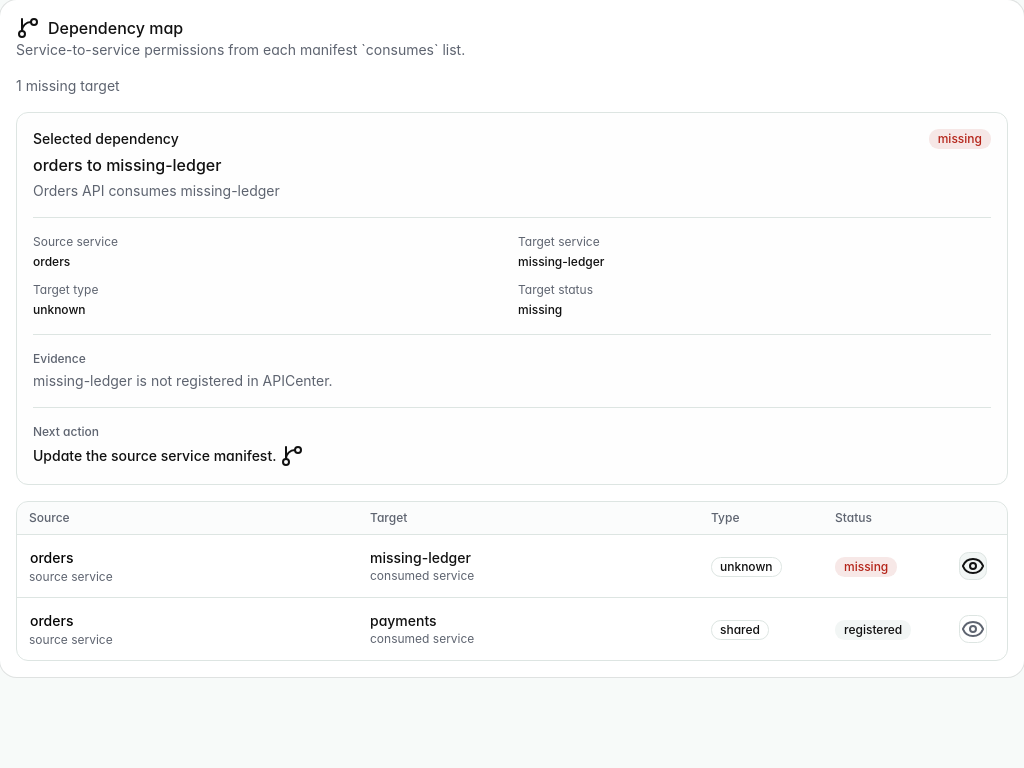
Test: DependencyMapClient › uses one severity-first dependency detail surface
This screenshot has width=1024, height=768.
Expected: the element named "Selected dependency detail" is shown, [16, 112, 1008, 485]
Expected: the text "Selected dependency" is shown, [33, 130, 179, 147]
What coordinates should you click on to do the following:
click the button named "Inspect dependency orders to payments"
I would click on:
 (973, 629)
Its box is [959, 615, 987, 643].
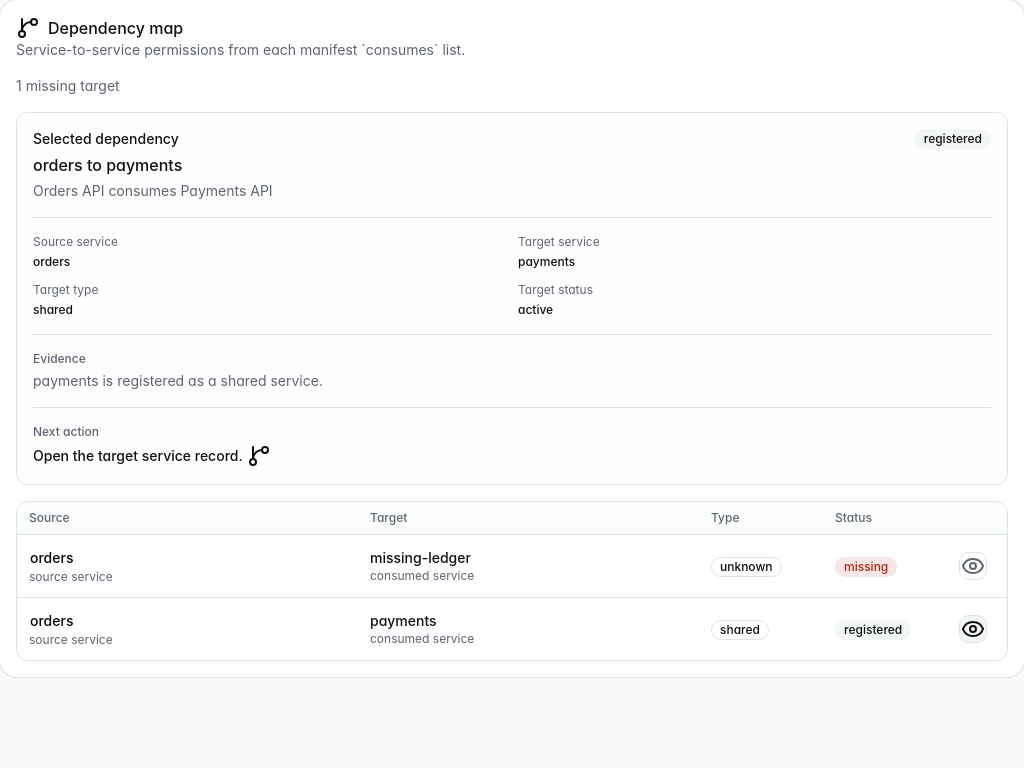
Now the text "payments is registered as a shared service." is shown, box [33, 372, 323, 389]
